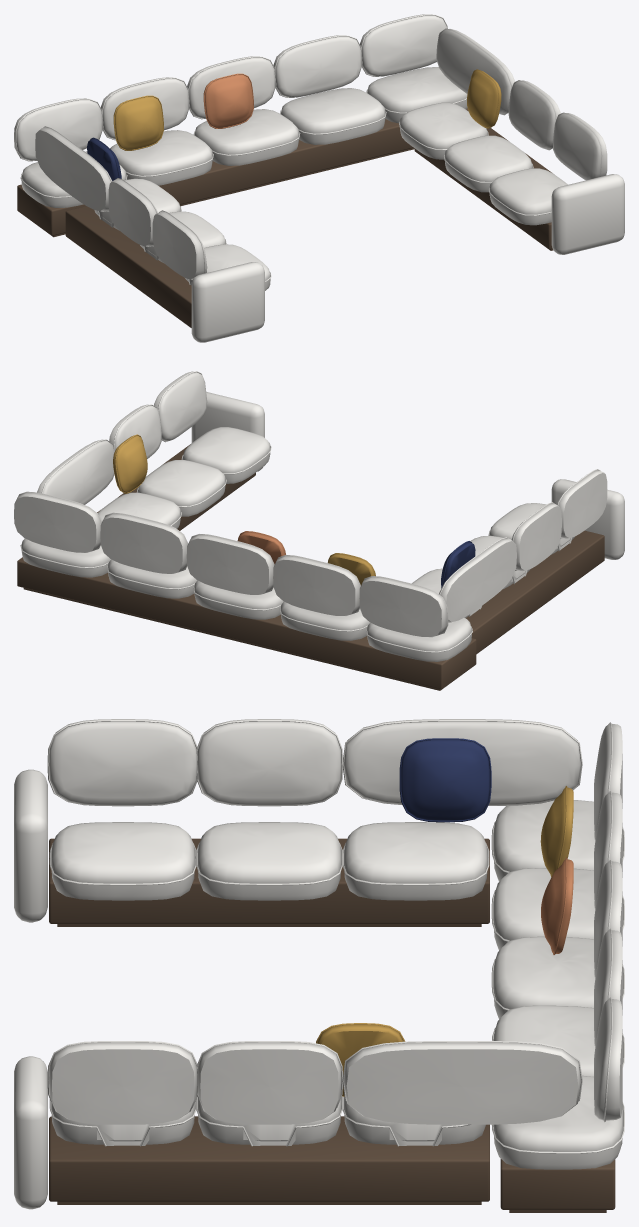
File: cloud-sofa-lod0.glb
3 views of the same model, one above another, from view 1: azimuth 30°, elevation 25°; view 2: azimuth 150°, elevation 25°; view 3: azimuth 270°, elevation 25° (orthographic). The views are drawn at different scales.
Parts seen in each view (by area): view 1: cloud-sofa.lod0__cloud boucle textile, cloud-sofa.lod0__honey ash, cloud-sofa.lod0__ochre textile, cloud-sofa.lod0__terracotta, cloud-sofa.lod0__indigo textile; view 2: cloud-sofa.lod0__cloud boucle textile, cloud-sofa.lod0__honey ash, cloud-sofa.lod0__ochre textile, cloud-sofa.lod0__terracotta, cloud-sofa.lod0__indigo textile; view 3: cloud-sofa.lod0__cloud boucle textile, cloud-sofa.lod0__honey ash, cloud-sofa.lod0__indigo textile, cloud-sofa.lod0__ochre textile, cloud-sofa.lod0__terracotta.
Boxes of the visible parts, x1=… form: cloud-sofa.lod0__cloud boucle textile: x1=14, y1=14, x2=624, y2=342; cloud-sofa.lod0__honey ash: x1=17, y1=108, x2=553, y2=327; cloud-sofa.lod0__ochre textile: x1=113, y1=69, x2=501, y2=150; cloud-sofa.lod0__terracotta: x1=203, y1=73, x2=253, y2=128; cloud-sofa.lod0__indigo textile: x1=87, y1=137, x2=121, y2=180; cloud-sofa.lod0__cloud boucle textile: x1=14, y1=371, x2=624, y2=661; cloud-sofa.lod0__honey ash: x1=17, y1=444, x2=604, y2=690; cloud-sofa.lod0__ochre textile: x1=113, y1=434, x2=375, y2=585; cloud-sofa.lod0__terracotta: x1=237, y1=531, x2=285, y2=564; cloud-sofa.lod0__indigo textile: x1=441, y1=541, x2=475, y2=588; cloud-sofa.lod0__cloud boucle textile: x1=14, y1=719, x2=624, y2=1209; cloud-sofa.lod0__honey ash: x1=49, y1=838, x2=615, y2=1212; cloud-sofa.lod0__indigo textile: x1=399, y1=738, x2=491, y2=822; cloud-sofa.lod0__ochre textile: x1=316, y1=786, x2=573, y2=1096; cloud-sofa.lod0__terracotta: x1=541, y1=857, x2=573, y2=954.
Bounding box in the file's own units: 3.84 × 0.8665 × 2.88.
